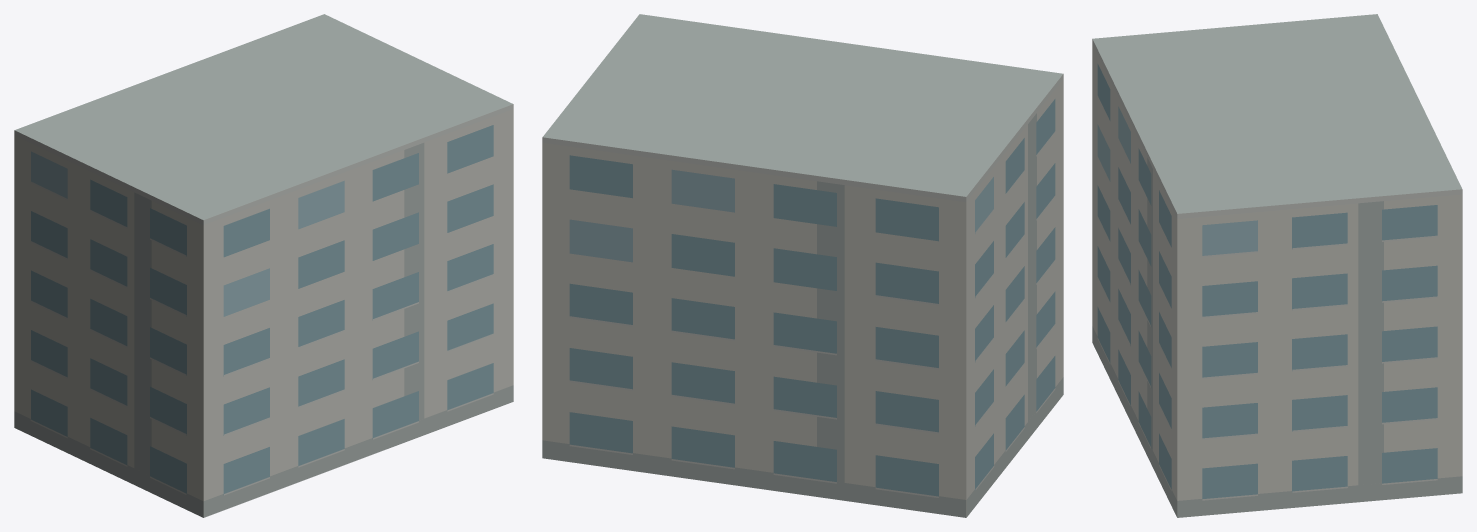
Rendered from residential-a9c549b6-29d9-4de9-b976-2a6b96f2f580.glb.
3 renders of one model, left to right at view 1: azimuth 30°, elevation 25°; view 2: azimuth 150°, elevation 25°; view 3: azimuth 270°, elevation 25°, orthographic. The views are drawn at different scales.
Visible parts, largest first — view 1: residential-a9c549b6-29d9-4de9-b976-2a6b96f2f580.tmp; view 2: residential-a9c549b6-29d9-4de9-b976-2a6b96f2f580.tmp; view 3: residential-a9c549b6-29d9-4de9-b976-2a6b96f2f580.tmp.
Part boxes in pixels (x1,y1,x2,y2): residential-a9c549b6-29d9-4de9-b976-2a6b96f2f580.tmp: (14, 14, 513, 517); residential-a9c549b6-29d9-4de9-b976-2a6b96f2f580.tmp: (542, 14, 1063, 517); residential-a9c549b6-29d9-4de9-b976-2a6b96f2f580.tmp: (1092, 14, 1462, 517).
Size of the model in its own units: 20.6 by 14.6 by 16.12.
